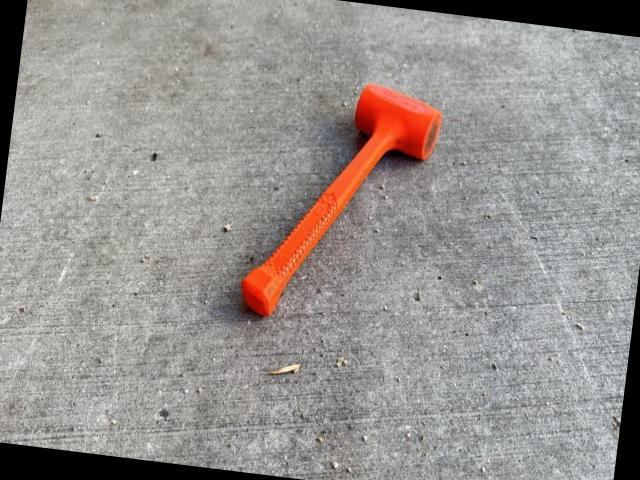hammer: (238, 68, 442, 332)
